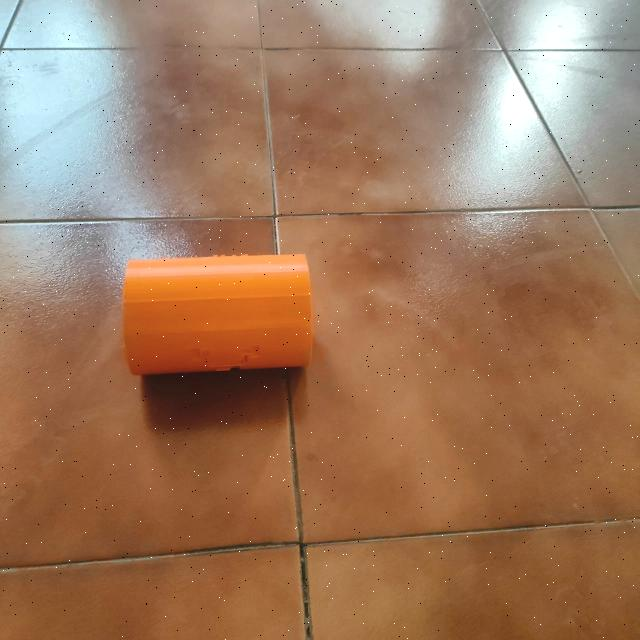Cylinder: (122, 252, 314, 376)
